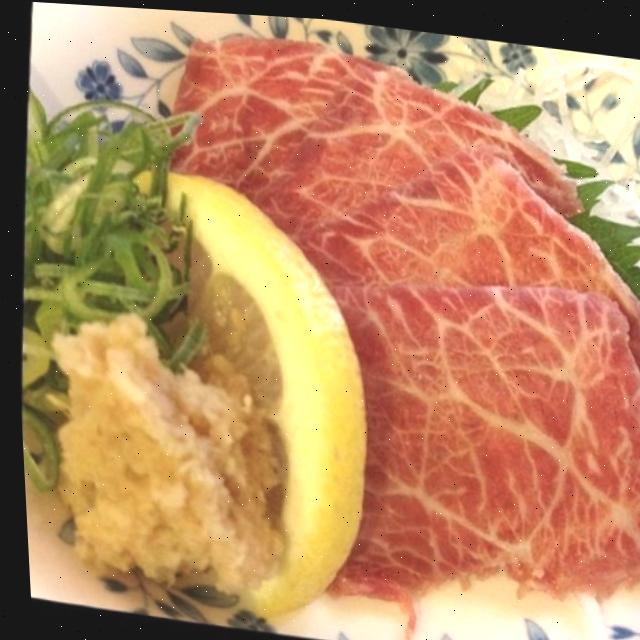刺身生食: (120, 27, 640, 640)
